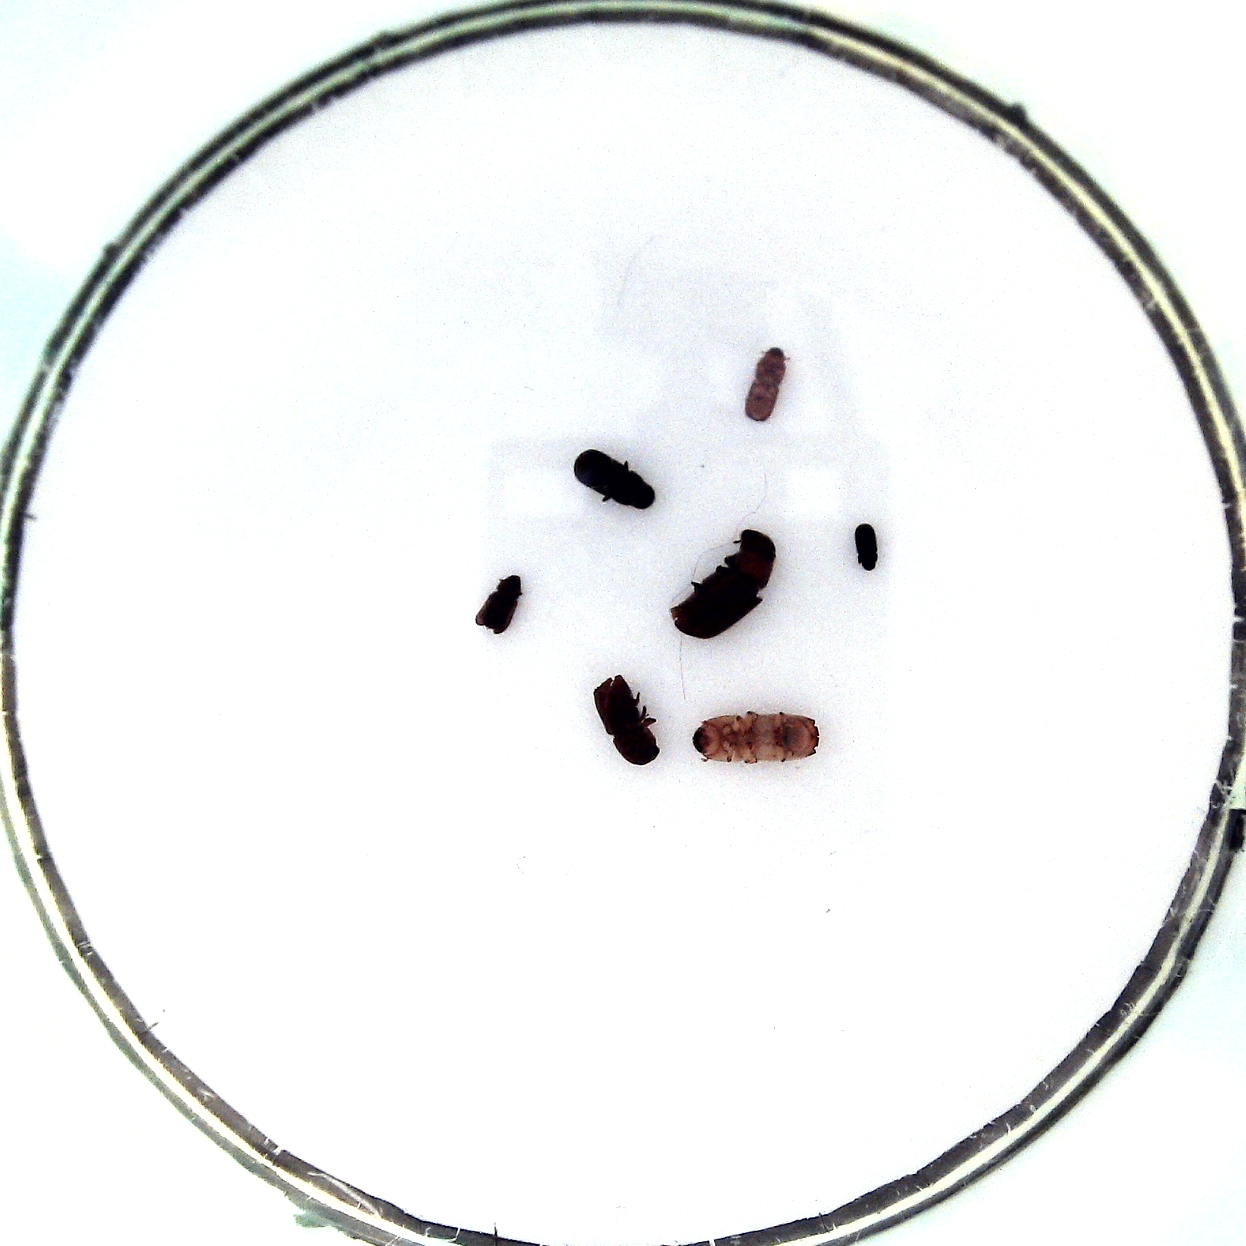Boerner: (693, 713, 819, 764)
Leconte: (671, 529, 777, 640)
acuminatus: (476, 573, 521, 633), (855, 523, 877, 571)
armandi: (574, 450, 656, 511)
coleoptera: (745, 348, 786, 423)
linnaeus: (594, 675, 660, 766)
